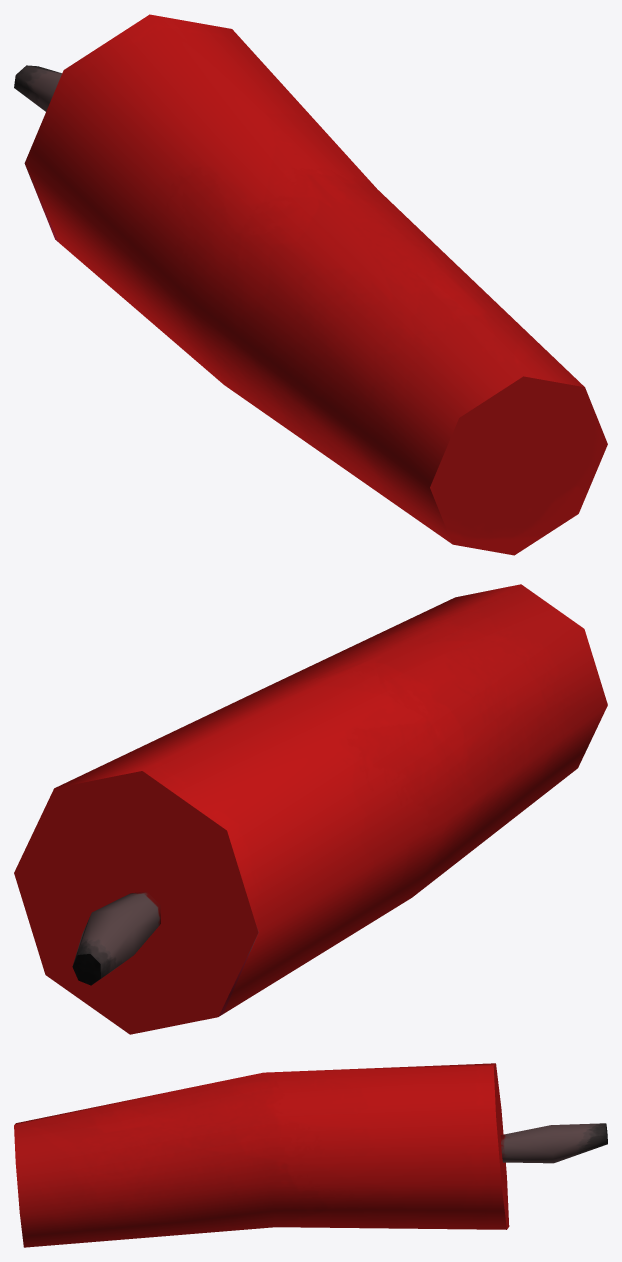
The model's file is m_bombe1.FBX.
The picture shows the model from 3 angles, top to bottom: view 1: azimuth 30°, elevation 25°; view 2: azimuth 150°, elevation 25°; view 3: azimuth 270°, elevation 25°; orthographic projection. The views are drawn at different scales.
Visible parts, largest first — view 1: m_bombe1; view 2: m_bombe1; view 3: m_bombe1.
Part boxes in pixels (x1=…): m_bombe1: x1=14, y1=14, x2=607, y2=555; m_bombe1: x1=14, y1=584, x2=607, y2=1034; m_bombe1: x1=14, y1=1063, x2=607, y2=1247.
Size of the model in its own units: 9.71 by 10.4 by 31.39.
